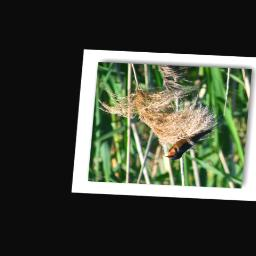Swallow: (163, 123, 218, 163)
